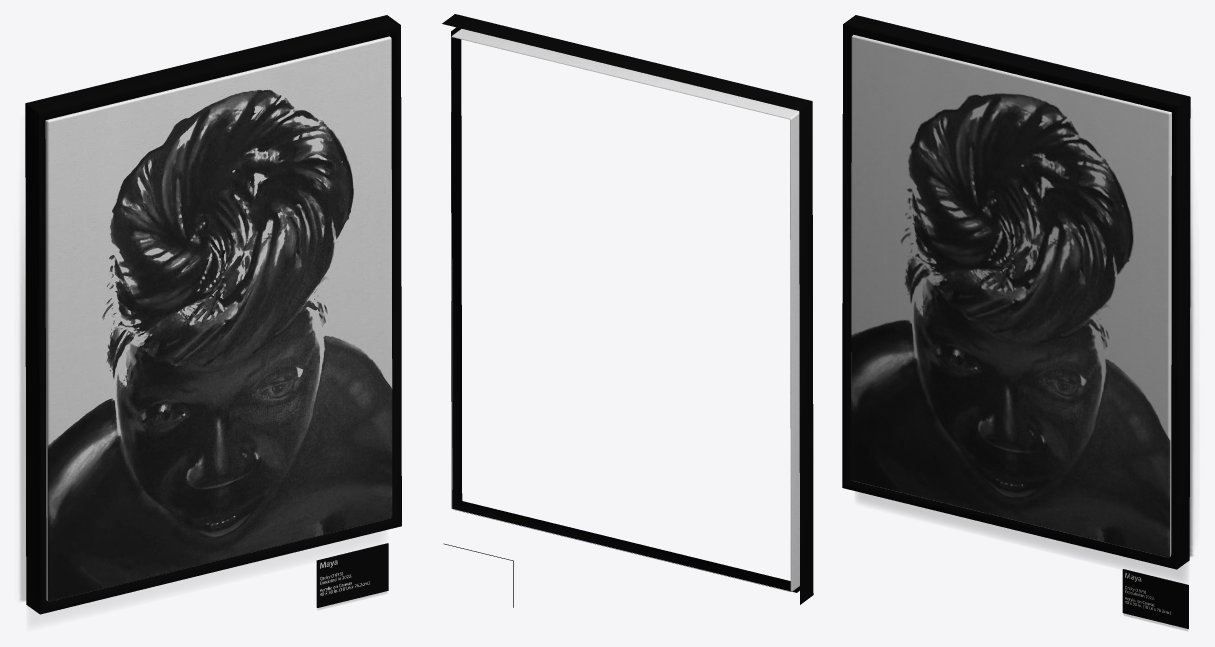
Rendered from maya.glb.
3 views of the same model, side by side, from view 1: azimuth 30°, elevation 25°; view 2: azimuth 150°, elevation 25°; view 3: azimuth 330°, elevation 25° (orthographic). The views are drawn at different scales.
Visible parts, largest first — view 1: Canvas, frame, title, Plane001; view 2: frame, Canvas; view 3: Canvas, frame, title, Plane001.
Boxes of the visible parts, box(x1,y1,x2,y2) form: Canvas: box(45, 36, 392, 601); frame: box(25, 15, 401, 628); title: box(316, 543, 388, 610); Plane001: box(18, 153, 26, 601); frame: box(442, 14, 813, 604); Canvas: box(451, 28, 799, 591); Canvas: box(851, 34, 1171, 557); frame: box(842, 15, 1190, 582); title: box(1122, 569, 1188, 630); Plane001: box(1189, 166, 1194, 557).
Size of the model in its own units: 8.47 by 12.24 by 0.5889.
3 materials, 2 textured.
